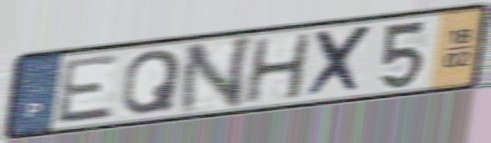5: (376, 17, 431, 90)
E: (53, 52, 123, 127)
H: (240, 30, 315, 106)
N: (174, 32, 259, 118)
Q: (119, 47, 185, 118)
X: (304, 22, 377, 101)
